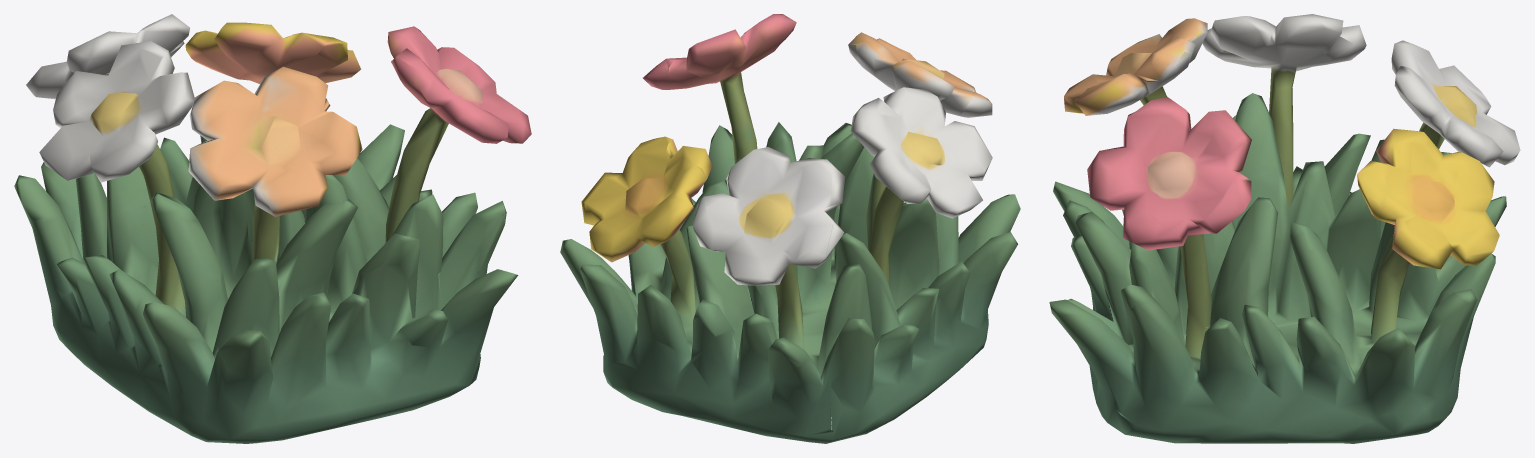
The model's file is flowers.glb.
The picture shows the model from 3 angles, left to right: view 1: azimuth 30°, elevation 25°; view 2: azimuth 150°, elevation 25°; view 3: azimuth 270°, elevation 25°; orthographic projection. The views are drawn at different scales.
Visible parts, largest first — view 1: tripo_node_a4974907-1182-4245-bf73-1b366c686c61; view 2: tripo_node_a4974907-1182-4245-bf73-1b366c686c61; view 3: tripo_node_a4974907-1182-4245-bf73-1b366c686c61.
Part boxes in pixels (x1,y1,x2,y2): tripo_node_a4974907-1182-4245-bf73-1b366c686c61: (14,14,531,443); tripo_node_a4974907-1182-4245-bf73-1b366c686c61: (560,14,1020,443); tripo_node_a4974907-1182-4245-bf73-1b366c686c61: (1049,14,1520,443).
Size of the model in its own units: 0.9634 by 0.7649 by 1.
1 material, 1 textured.
